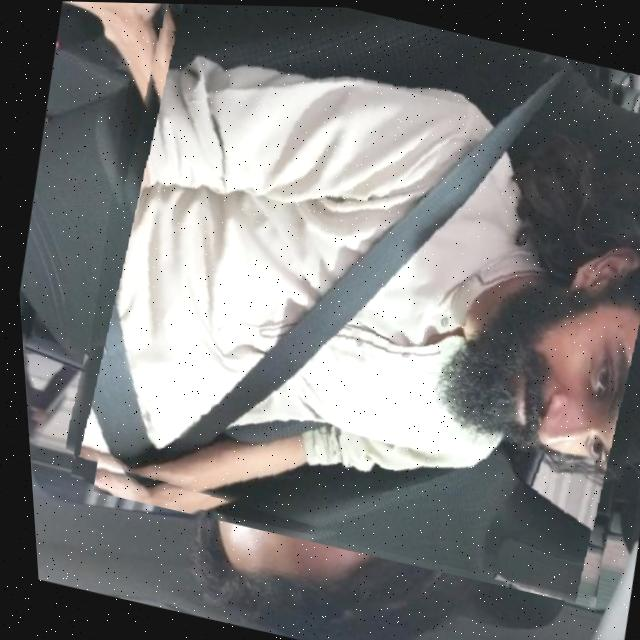seatbelt: (37, 1, 640, 603)
